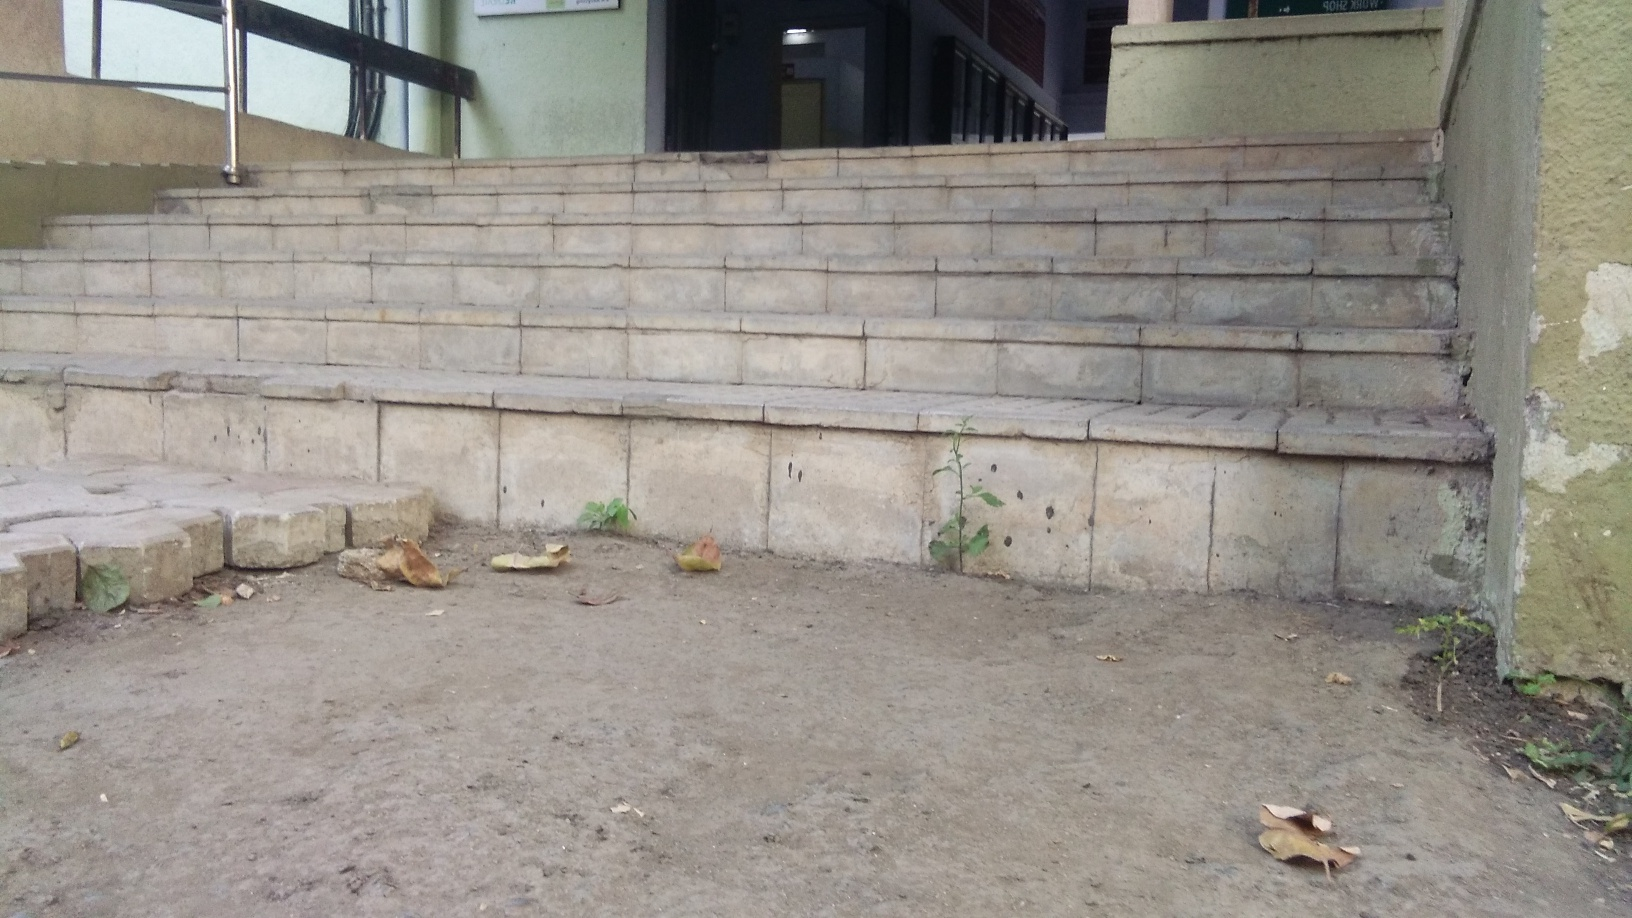stairs_up: (1, 106, 1455, 603)
